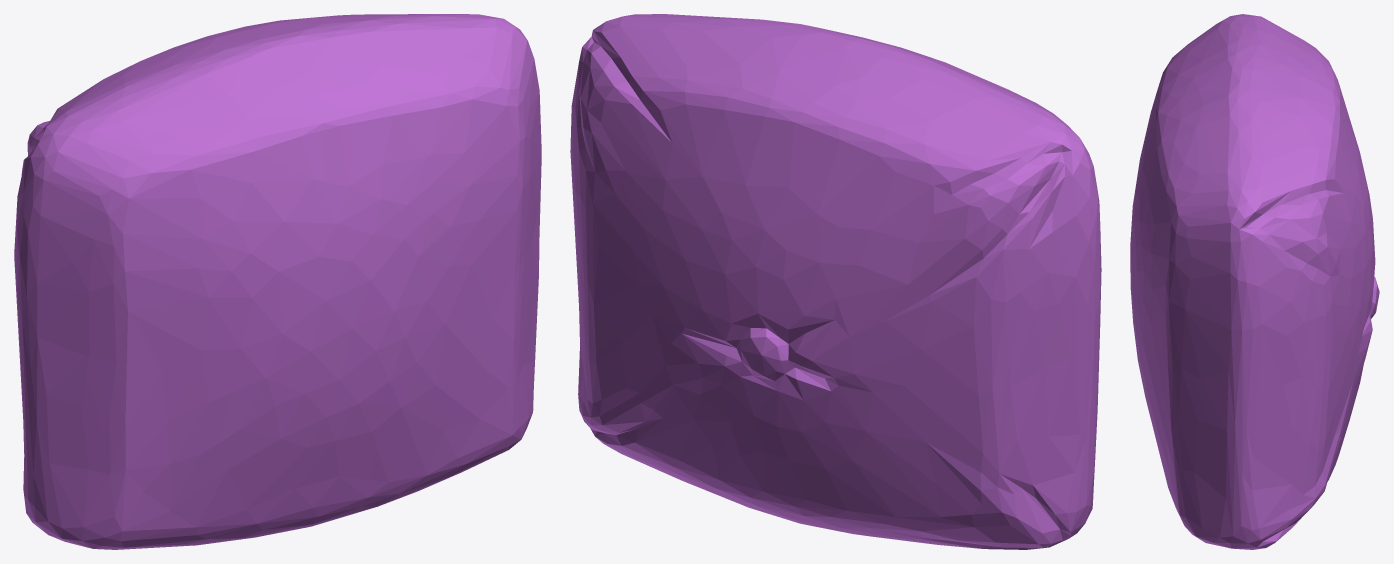
The model's file is Almoada.fbx.
The picture shows the model from 3 angles, left to right: view 1: azimuth 30°, elevation 25°; view 2: azimuth 150°, elevation 25°; view 3: azimuth 270°, elevation 25°; orthographic projection. The views are drawn at different scales.
Parts seen in each view (by area): view 1: Almoada; view 2: Almoada; view 3: Almoada.
Boxes of the visible parts, x1,y1,x2,y2 form: Almoada: (14, 14, 541, 549); Almoada: (570, 14, 1101, 549); Almoada: (1130, 14, 1379, 549).
Bounding box in the file's own units: 164 × 143 × 79.58.
